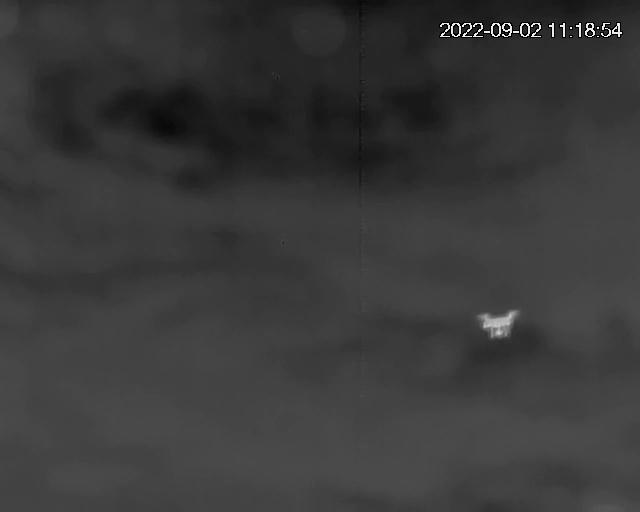DJI-Phantom: (478, 307, 520, 342)
